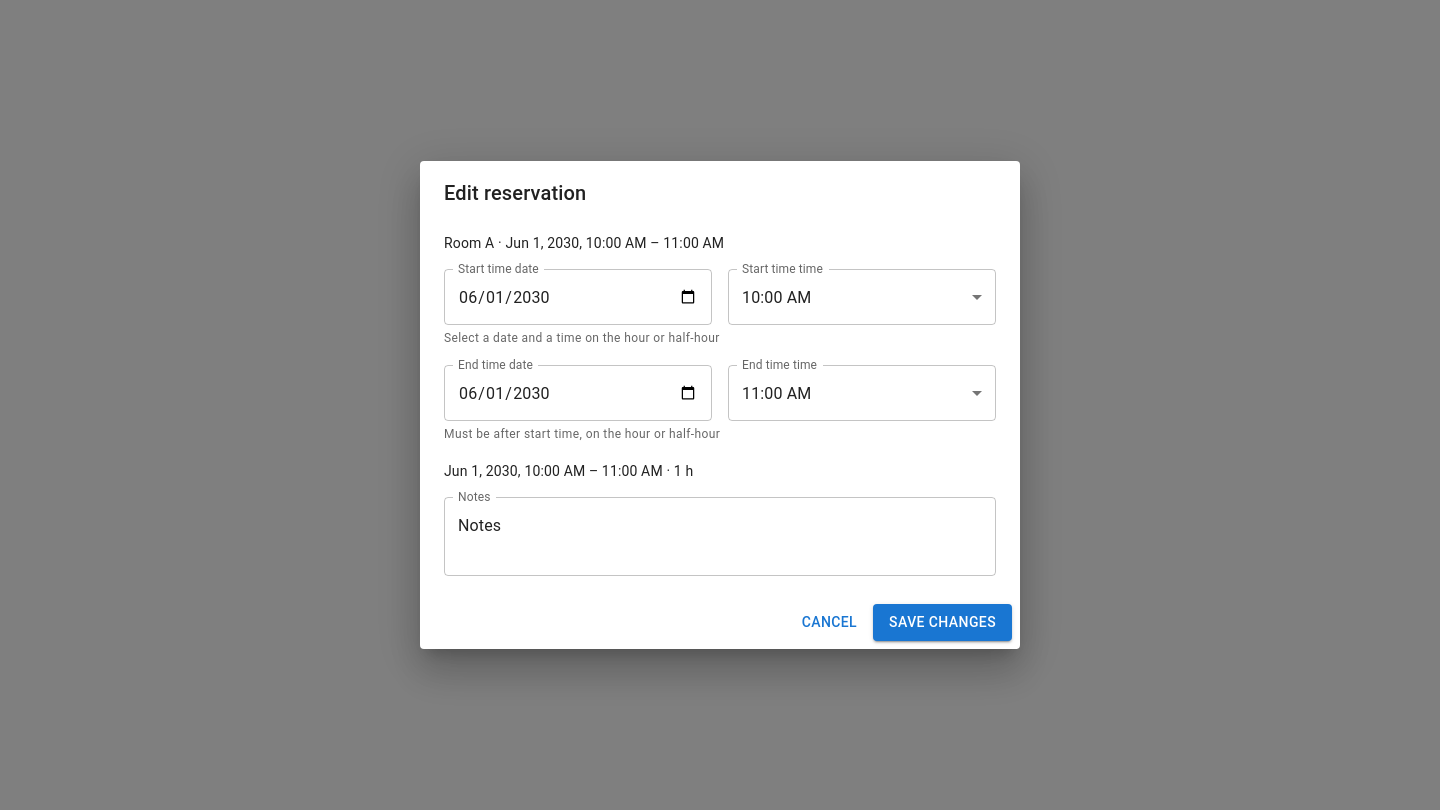
Test: ReservationEditDialog › shows API error when update fails
Click the button "Save changes" at (943,622), box [873,604,1012,641]
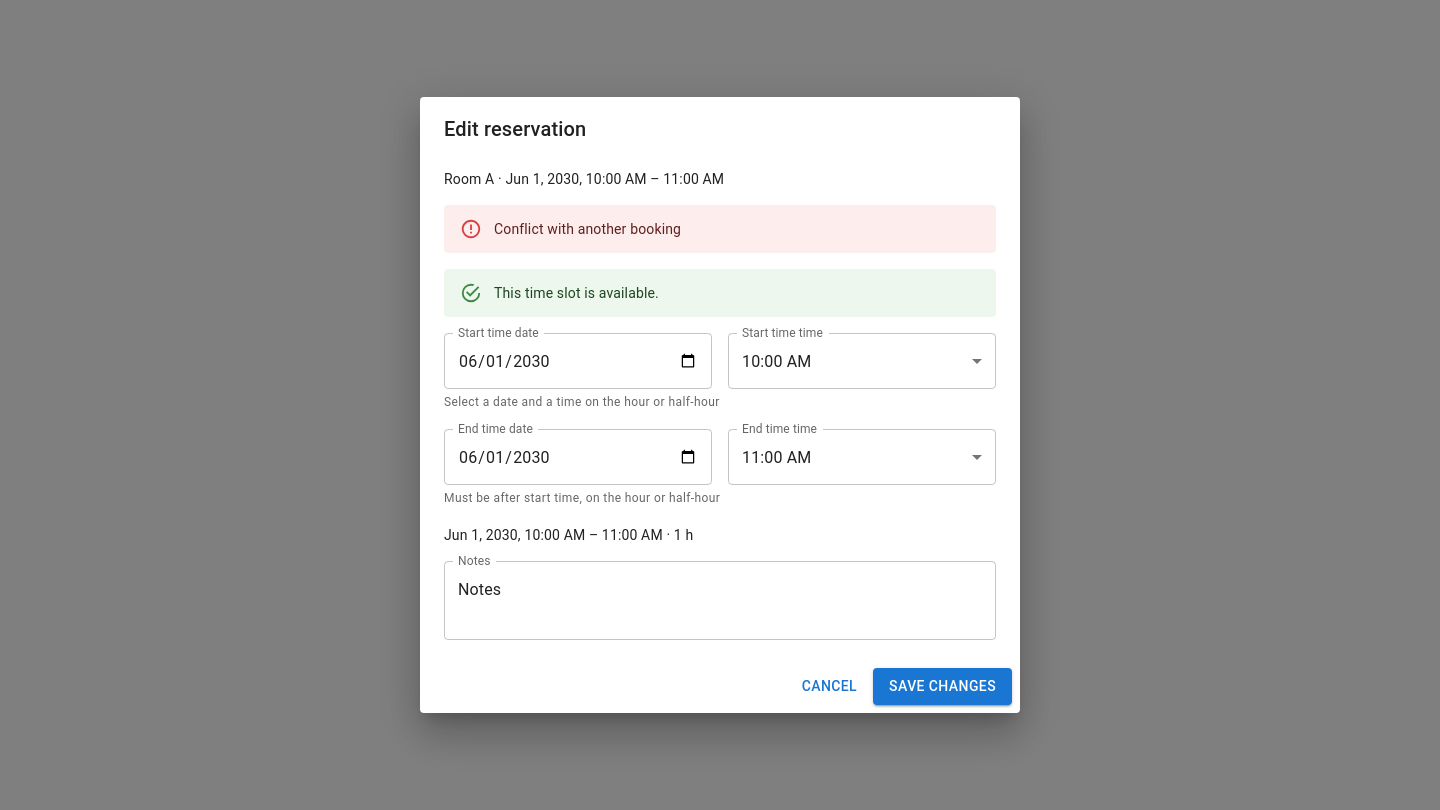
Now the text "Conflict with another booking" is shown, box [494,221,681,237]
